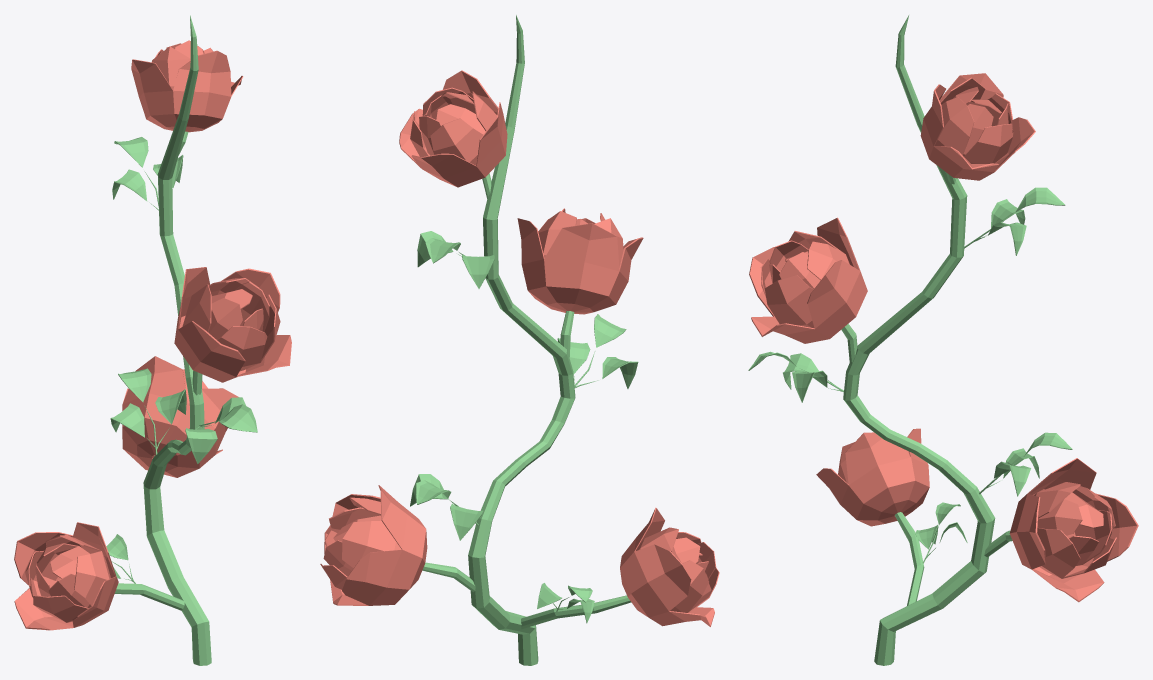
The model's file is Rose_Bush_01.glb.
The picture shows the model from 3 angles, left to right: view 1: azimuth 30°, elevation 25°; view 2: azimuth 150°, elevation 25°; view 3: azimuth 270°, elevation 25°; orthographic projection. The views are drawn at different scales.
Parts seen in each view (by area): view 1: node-0; view 2: node-0; view 3: node-0.
Part boxes in pixels (x1=…): node-0: x1=14, y1=15, x2=291, y2=665; node-0: x1=320, y1=15, x2=719, y2=665; node-0: x1=748, y1=15, x2=1138, y2=665.
Bounding box in the file's own units: 6.97 × 14.56 × 7.95.
